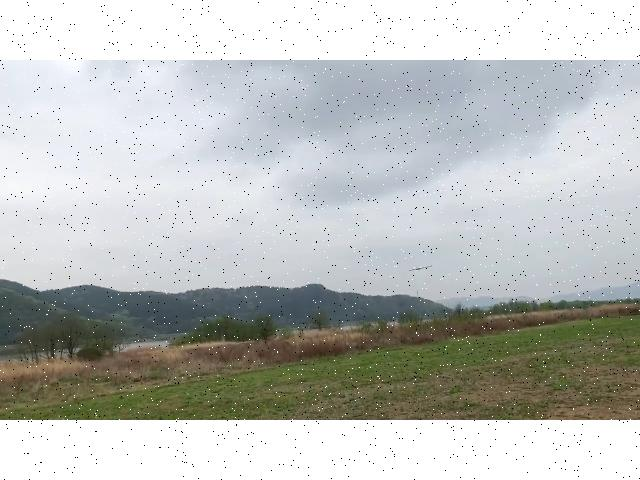Anti-Drone: (409, 265, 433, 271)
